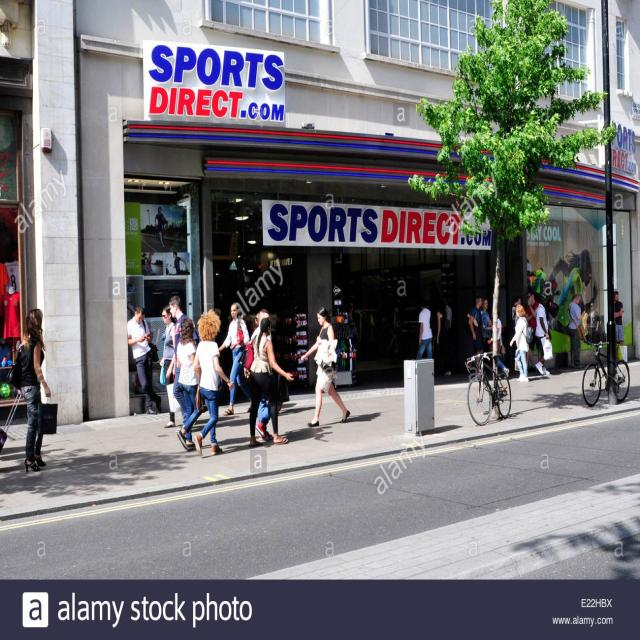body: (527, 247, 607, 349), (8, 307, 52, 473), (299, 305, 352, 428), (245, 317, 294, 448), (192, 310, 234, 460), (125, 301, 163, 417), (168, 294, 198, 425), (218, 302, 252, 417), (174, 316, 200, 452), (250, 308, 274, 442), (147, 209, 190, 279), (159, 304, 179, 430), (509, 304, 530, 384), (486, 310, 509, 380), (566, 292, 586, 370), (0, 439, 63, 463), (534, 294, 552, 377), (525, 291, 542, 372), (512, 296, 528, 372), (416, 298, 433, 361), (433, 301, 447, 377), (468, 296, 484, 357), (442, 297, 453, 377), (479, 298, 494, 354), (197, 412, 245, 429), (204, 436, 253, 452), (284, 424, 326, 442), (613, 290, 625, 346), (153, 205, 168, 248), (278, 398, 315, 414), (352, 406, 384, 424), (170, 252, 187, 274), (254, 310, 259, 326)
